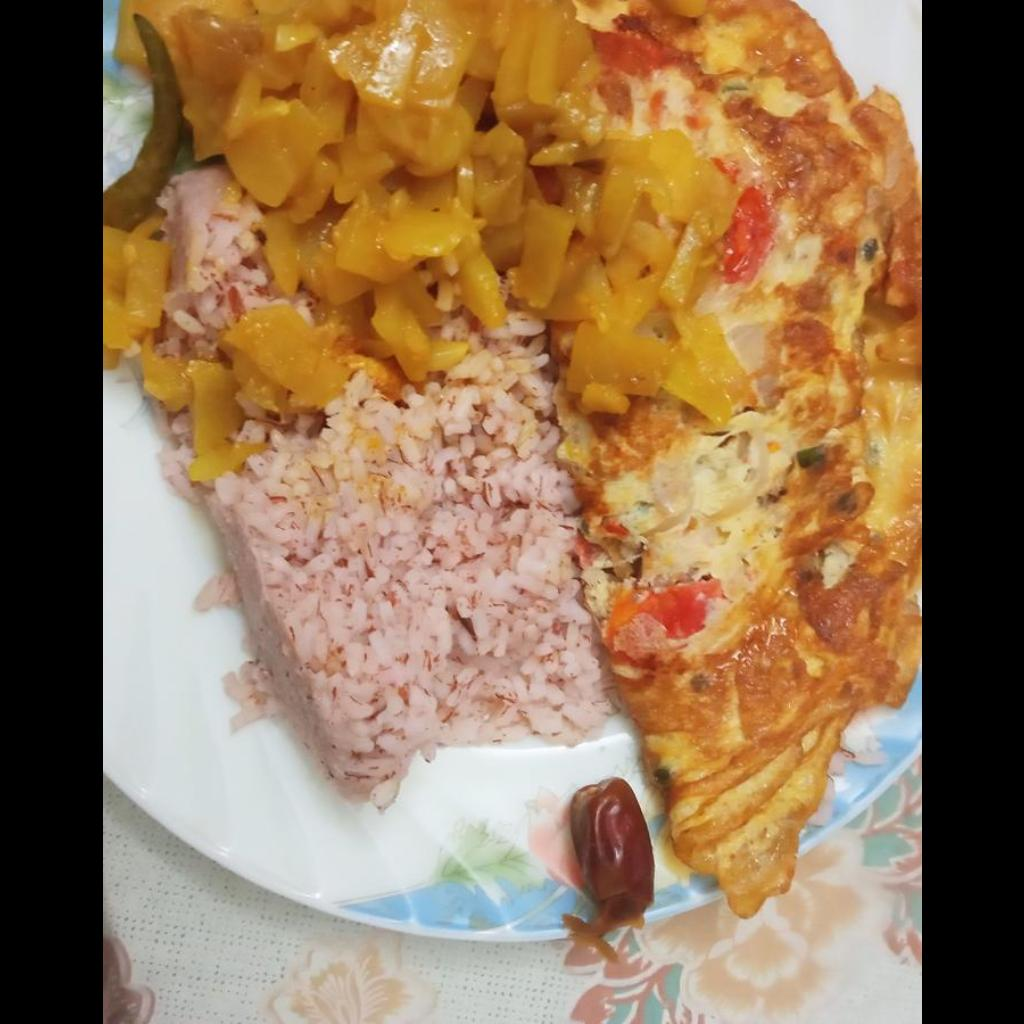dates: (575, 776, 657, 924)
egg-poached: (567, 10, 920, 917)
rice: (218, 378, 602, 788)
vaji: (125, 6, 747, 413)
